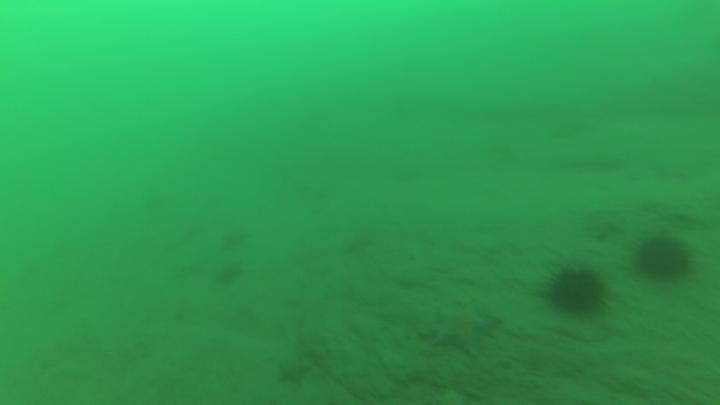holothurian: (430, 299, 500, 360), (279, 355, 315, 387)
starfish: (629, 226, 701, 290), (547, 257, 614, 321)
